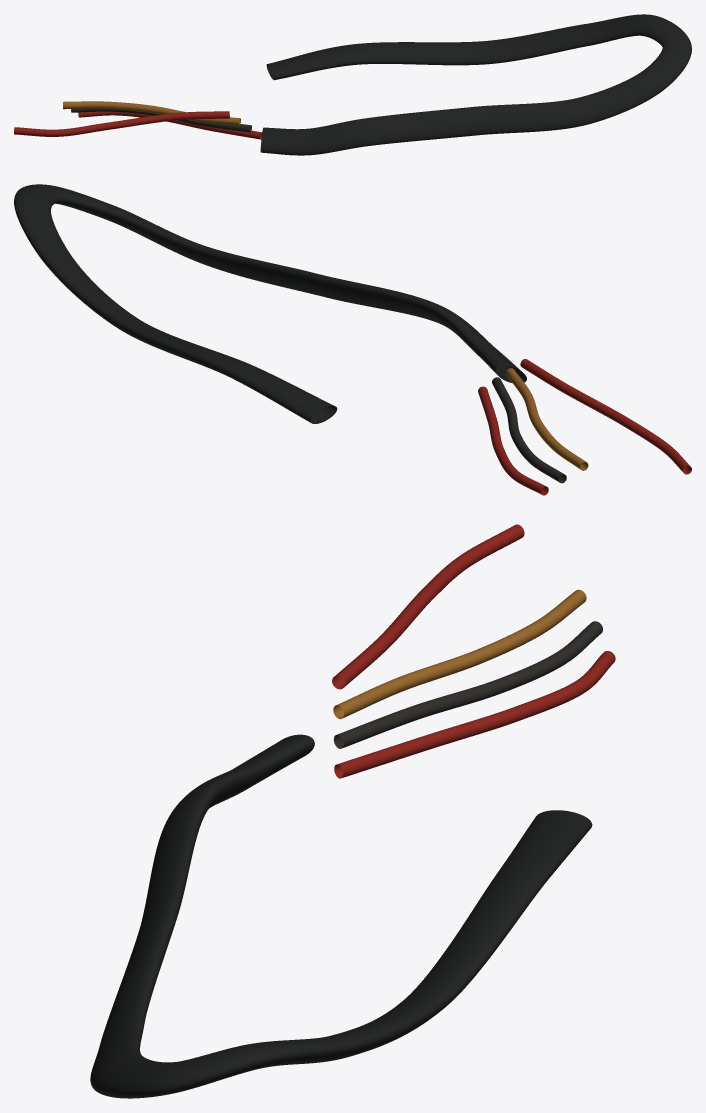
File: holder-leads-material.glb
The picture shows the model from 3 angles, top to bottom: view 1: azimuth 30°, elevation 25°; view 2: azimuth 150°, elevation 25°; view 3: azimuth 270°, elevation 25°; orthographic projection. The views are drawn at different scales.
Visible parts, largest first — view 1: DF201058_FLATTENED_OUTER_JACKET_REVIEW_CUTS, VISIBLE_RED_SKIN_A_NO_CONTACT_OR_CONDUCTOR, VISIBLE_AMBER_SKIN_B_NO_CONTACT_OR_CONDUCTOR, VISIBLE_RED_SKIN_D_NO_CONTACT_OR_CONDUCTOR, VISIBLE_DARK_SKIN_C_NO_CONTACT_OR_CONDUCTOR; view 2: DF201058_FLATTENED_OUTER_JACKET_REVIEW_CUTS, VISIBLE_RED_SKIN_A_NO_CONTACT_OR_CONDUCTOR, VISIBLE_RED_SKIN_D_NO_CONTACT_OR_CONDUCTOR, VISIBLE_DARK_SKIN_C_NO_CONTACT_OR_CONDUCTOR, VISIBLE_AMBER_SKIN_B_NO_CONTACT_OR_CONDUCTOR; view 3: DF201058_FLATTENED_OUTER_JACKET_REVIEW_CUTS, VISIBLE_RED_SKIN_D_NO_CONTACT_OR_CONDUCTOR, VISIBLE_DARK_SKIN_C_NO_CONTACT_OR_CONDUCTOR, VISIBLE_AMBER_SKIN_B_NO_CONTACT_OR_CONDUCTOR, VISIBLE_RED_SKIN_A_NO_CONTACT_OR_CONDUCTOR.
Boxes of the visible parts, x1,y1,x2,y2 form: DF201058_FLATTENED_OUTER_JACKET_REVIEW_CUTS: [260, 14, 691, 155]; VISIBLE_RED_SKIN_A_NO_CONTACT_OR_CONDUCTOR: [14, 111, 229, 136]; VISIBLE_AMBER_SKIN_B_NO_CONTACT_OR_CONDUCTOR: [63, 101, 240, 125]; VISIBLE_RED_SKIN_D_NO_CONTACT_OR_CONDUCTOR: [78, 111, 262, 139]; VISIBLE_DARK_SKIN_C_NO_CONTACT_OR_CONDUCTOR: [71, 108, 251, 132]; DF201058_FLATTENED_OUTER_JACKET_REVIEW_CUTS: [14, 184, 526, 423]; VISIBLE_RED_SKIN_A_NO_CONTACT_OR_CONDUCTOR: [520, 359, 691, 474]; VISIBLE_RED_SKIN_D_NO_CONTACT_OR_CONDUCTOR: [478, 386, 548, 495]; VISIBLE_DARK_SKIN_C_NO_CONTACT_OR_CONDUCTOR: [492, 377, 566, 483]; VISIBLE_AMBER_SKIN_B_NO_CONTACT_OR_CONDUCTOR: [506, 368, 588, 470]; DF201058_FLATTENED_OUTER_JACKET_REVIEW_CUTS: [90, 734, 592, 1098]; VISIBLE_RED_SKIN_D_NO_CONTACT_OR_CONDUCTOR: [334, 651, 615, 778]; VISIBLE_DARK_SKIN_C_NO_CONTACT_OR_CONDUCTOR: [333, 621, 602, 748]; VISIBLE_AMBER_SKIN_B_NO_CONTACT_OR_CONDUCTOR: [333, 589, 586, 719]; VISIBLE_RED_SKIN_A_NO_CONTACT_OR_CONDUCTOR: [332, 524, 524, 689].
Size of the model in its own units: 0.0835 by 0.00733 by 0.0321.
